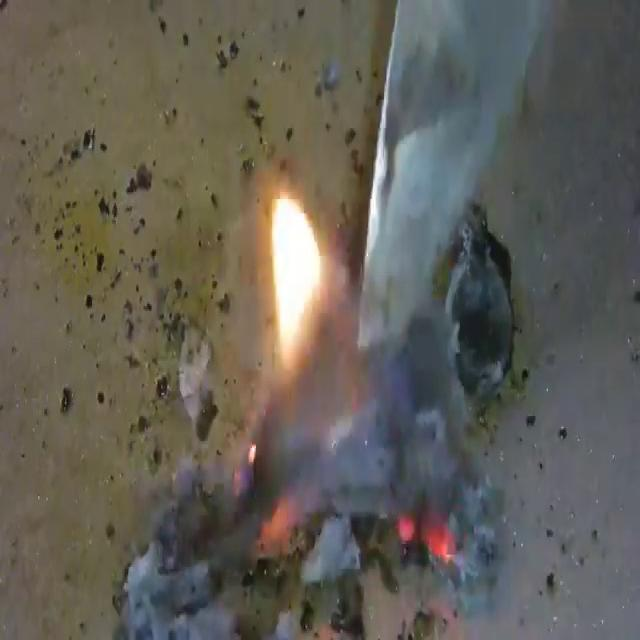Fire: (266, 189, 326, 375)
